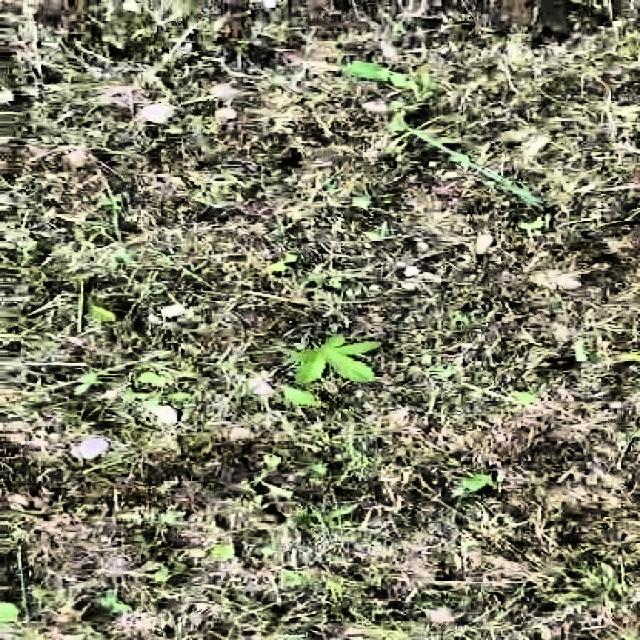Weeds: (291, 333, 383, 385)
